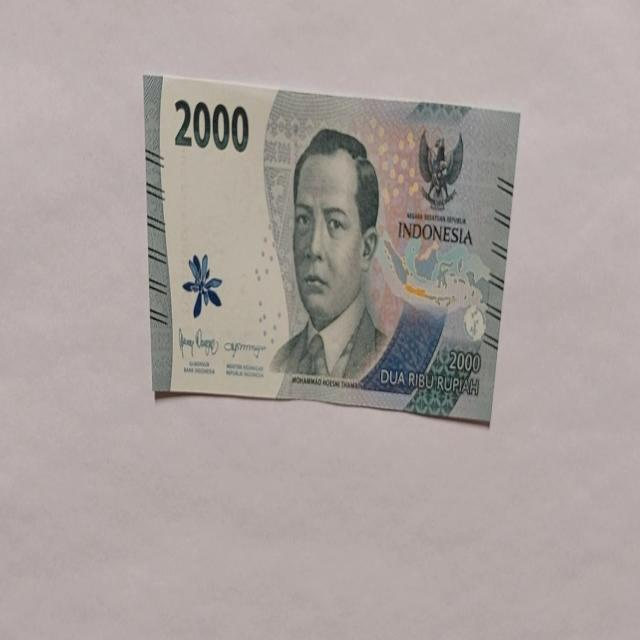dua ribu rupiah: (142, 72, 520, 424), (268, 127, 389, 383)
